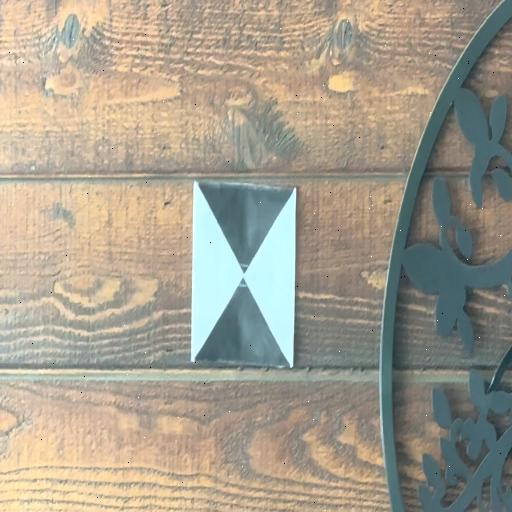target: (194, 182, 296, 367)
